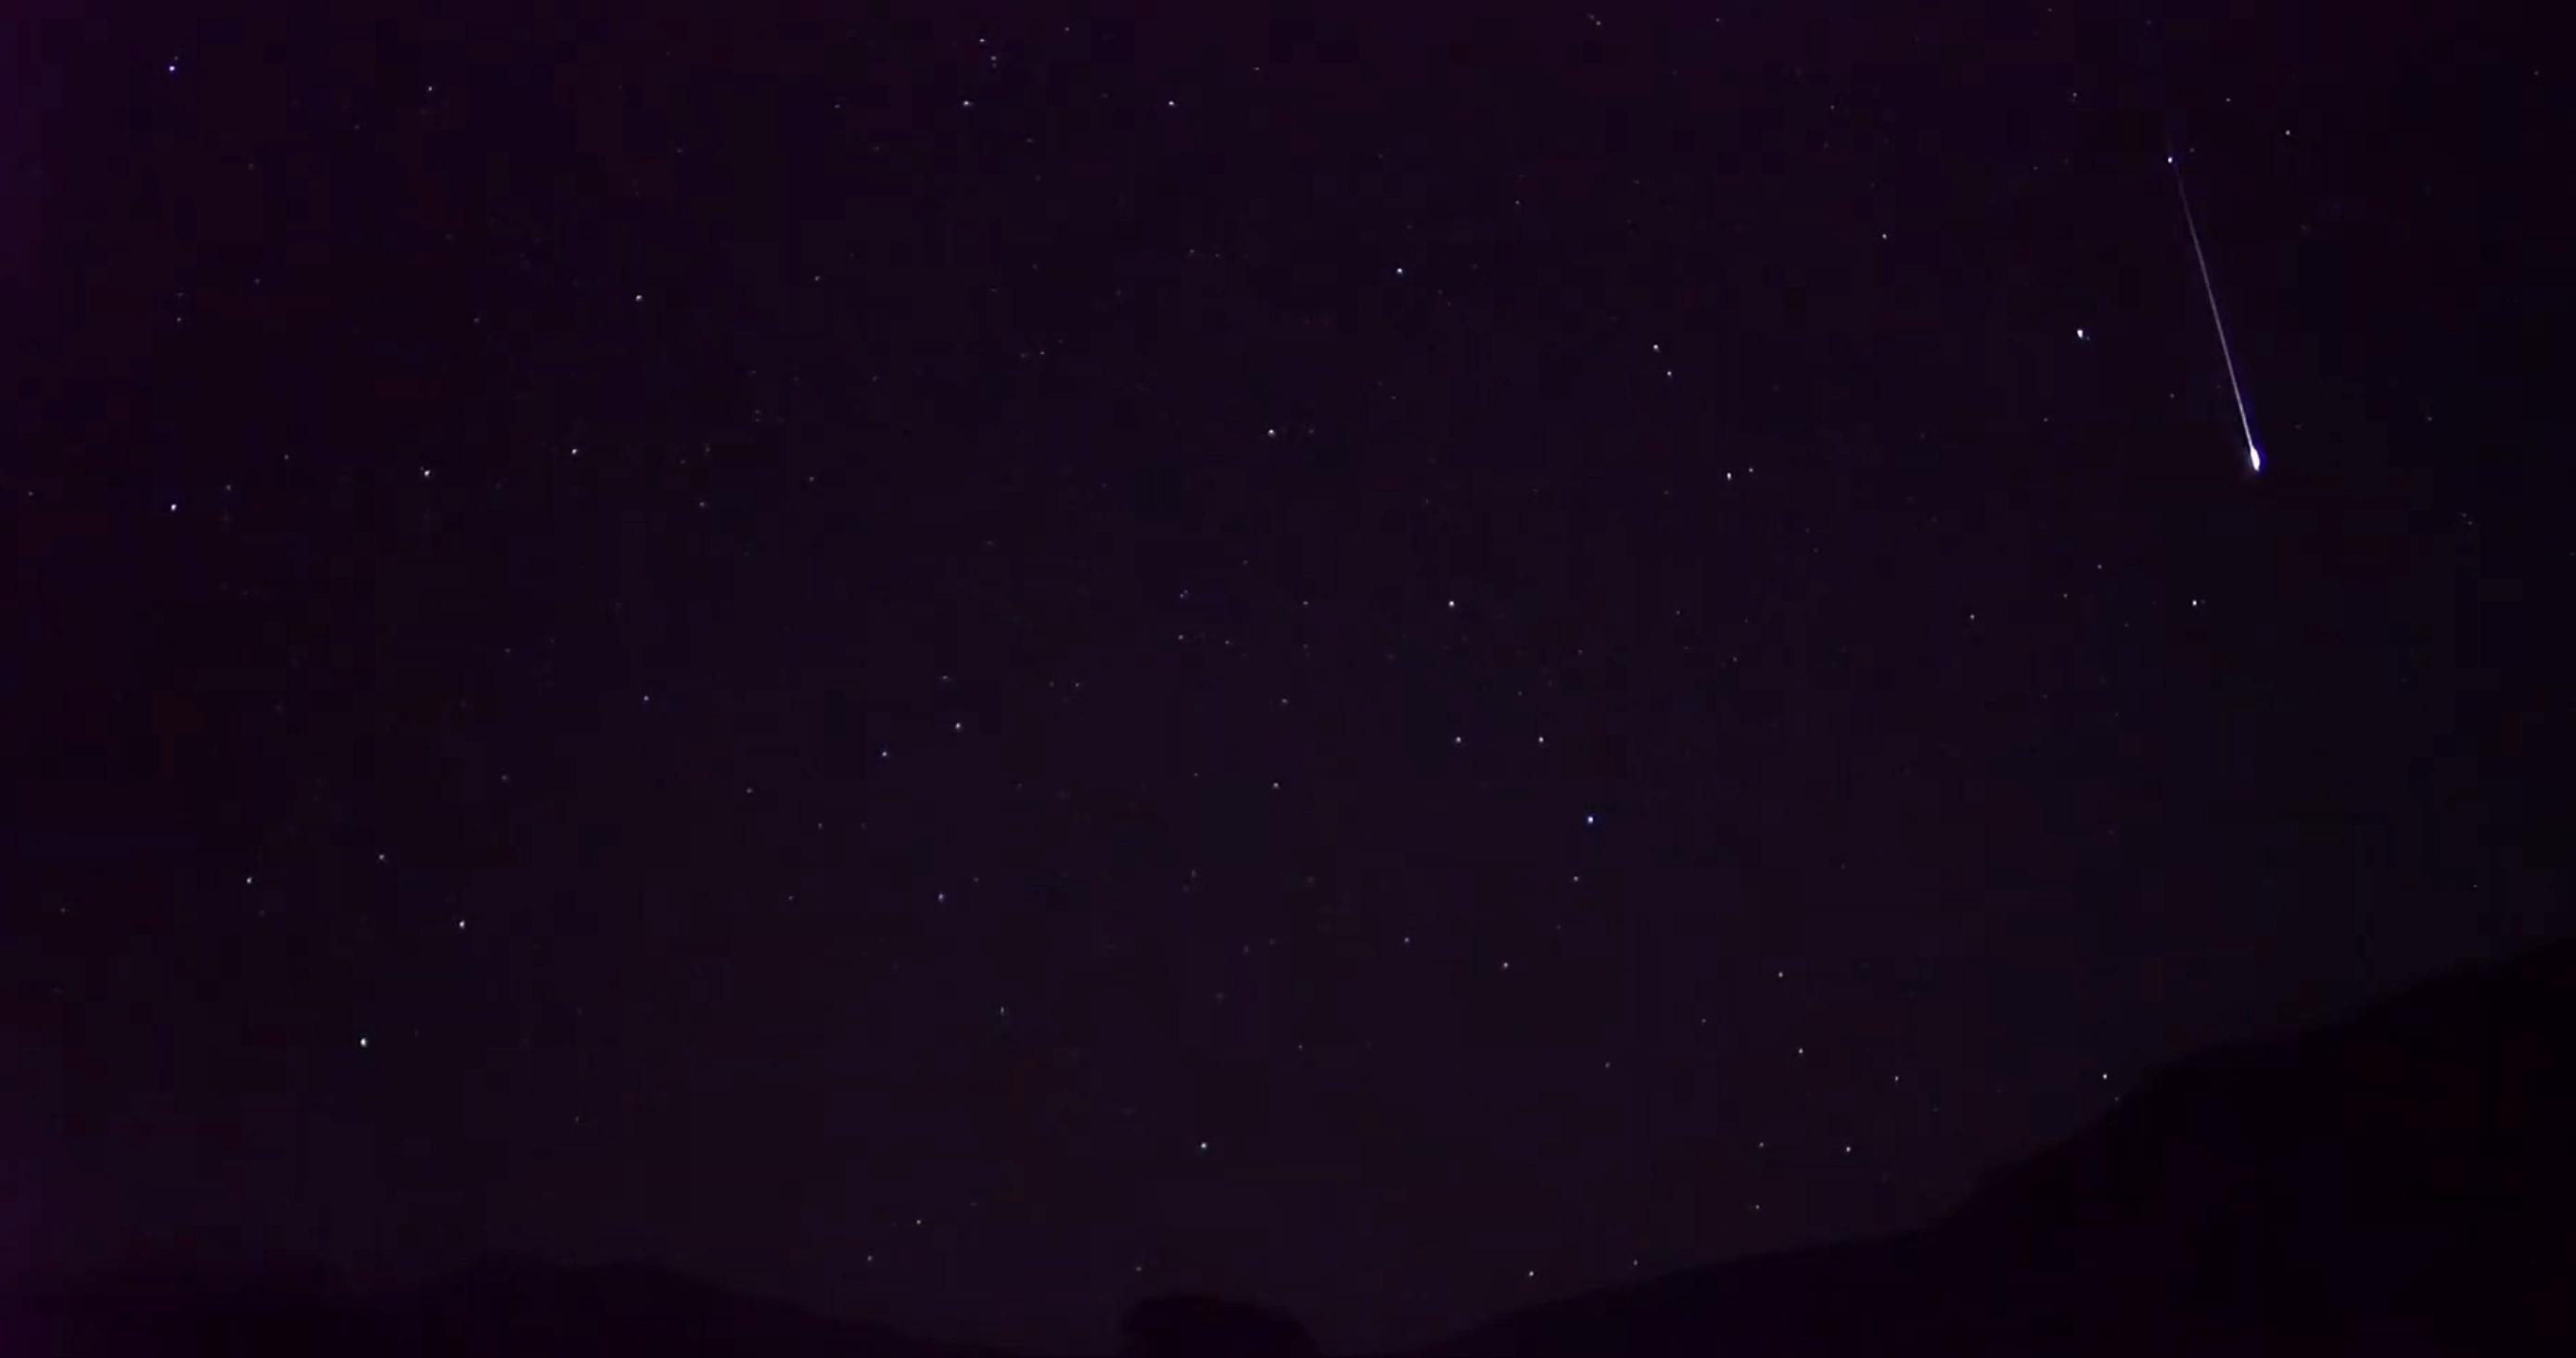meteorite: (2150, 148, 2307, 492)
